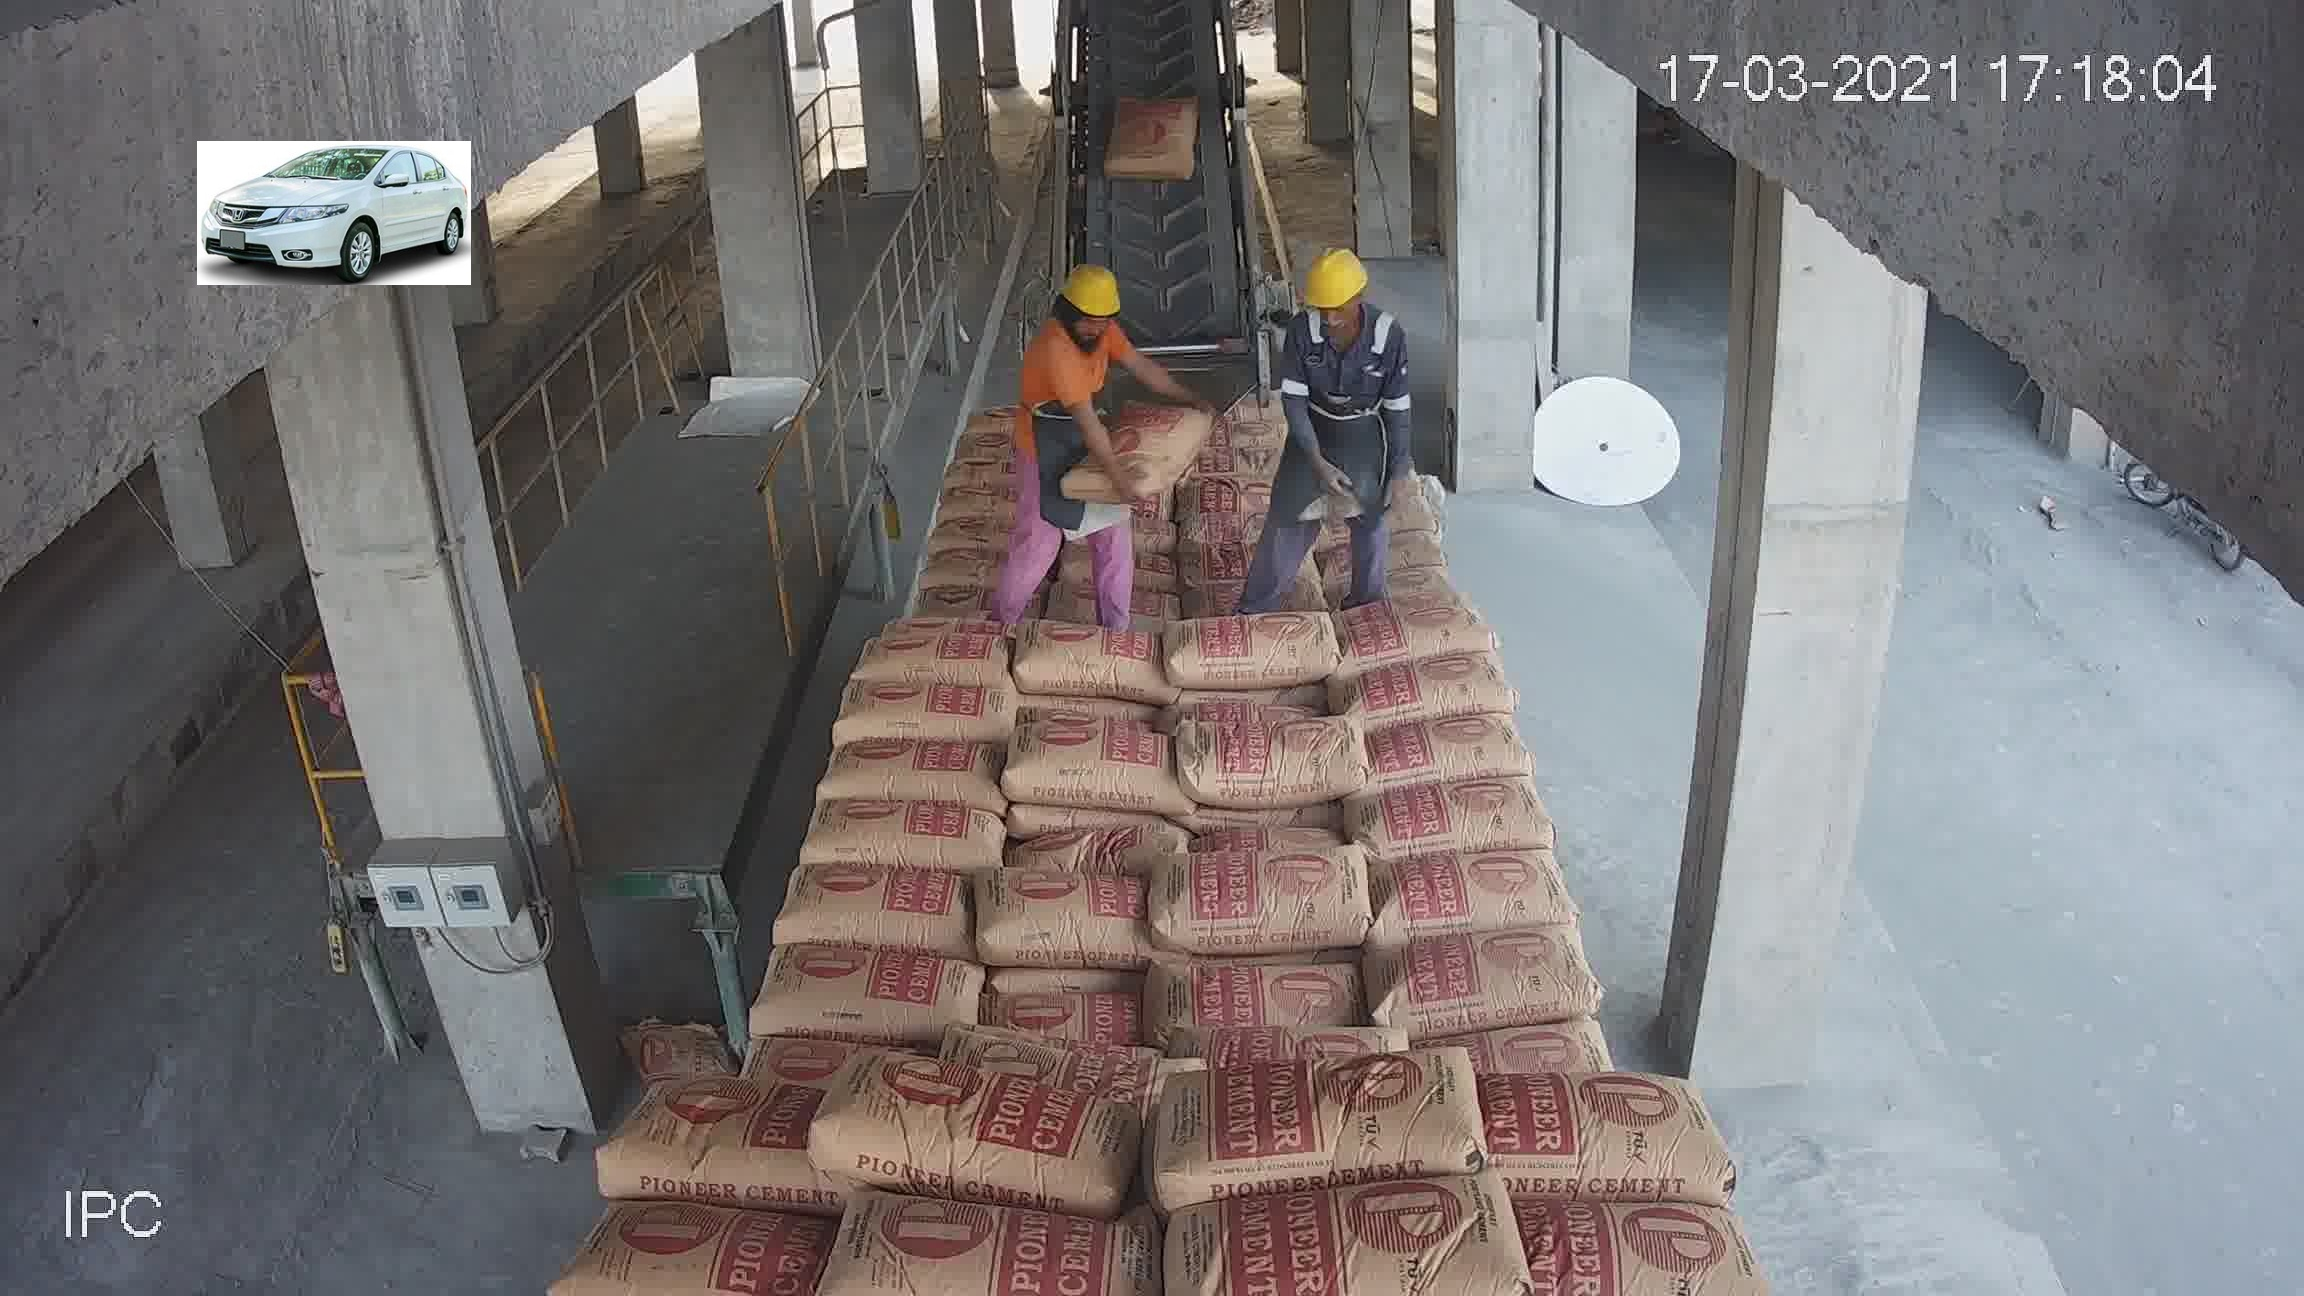bag: (1060, 399, 1211, 498), (1105, 92, 1204, 184)
bag_h: (1147, 1044, 1495, 1204), (821, 1055, 1139, 1196), (1161, 1176, 1518, 1294), (1467, 1070, 1720, 1201), (832, 1195, 1160, 1294), (598, 1087, 820, 1214), (1513, 1185, 1760, 1296), (1375, 919, 1598, 1033), (559, 1204, 826, 1296), (1150, 957, 1375, 1063), (1160, 850, 1386, 949), (755, 946, 983, 1043), (1359, 840, 1573, 940), (975, 862, 1154, 972), (1176, 715, 1369, 815), (775, 862, 975, 953), (1005, 718, 1185, 810), (1166, 612, 1343, 703), (812, 734, 1017, 809), (802, 802, 1013, 870), (1021, 616, 1177, 706), (1348, 782, 1549, 851), (1359, 706, 1529, 785), (834, 680, 1019, 747), (1019, 820, 1196, 888), (862, 617, 1022, 685), (1350, 654, 1508, 720), (991, 980, 1157, 1041), (1337, 600, 1484, 669), (910, 540, 1010, 592), (923, 473, 1013, 525), (919, 508, 1014, 555), (902, 573, 994, 616)
belt: (1063, 32, 1272, 430)
